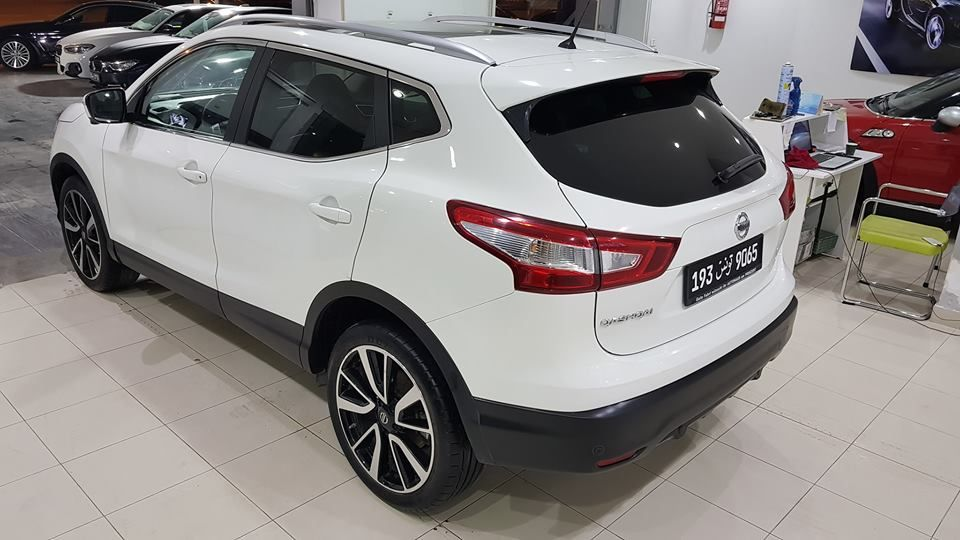LP: (688, 237, 756, 299)
